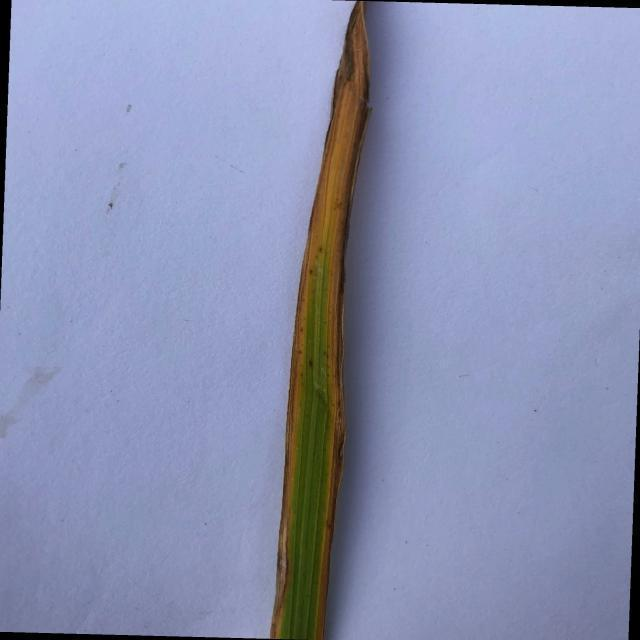Rice Tungro: (308, 0, 378, 640), (268, 277, 309, 640)
